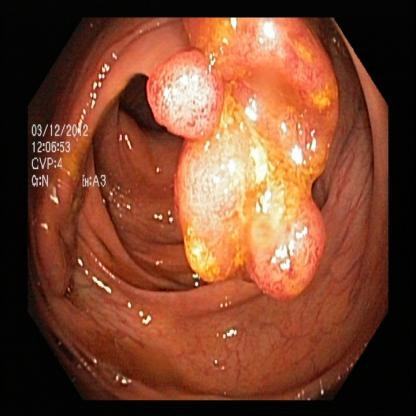Labels: (30, 116, 118, 198)
Polyps: (157, 20, 340, 292)
